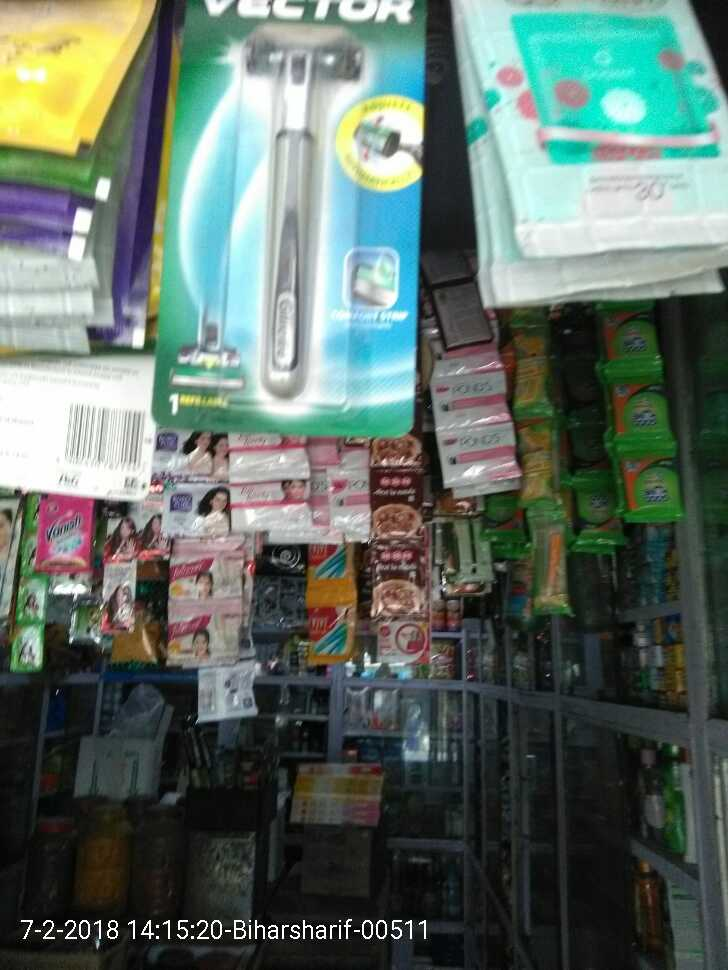gillette: (220, 14, 381, 430)
